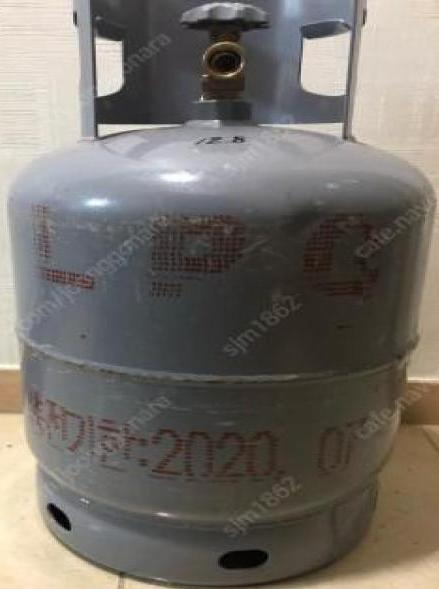cylinder: (1, 0, 439, 589)
